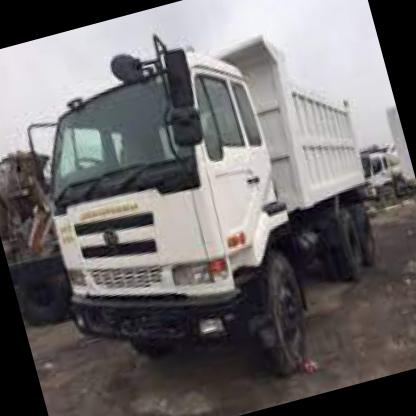truck: (10, 32, 330, 416)
